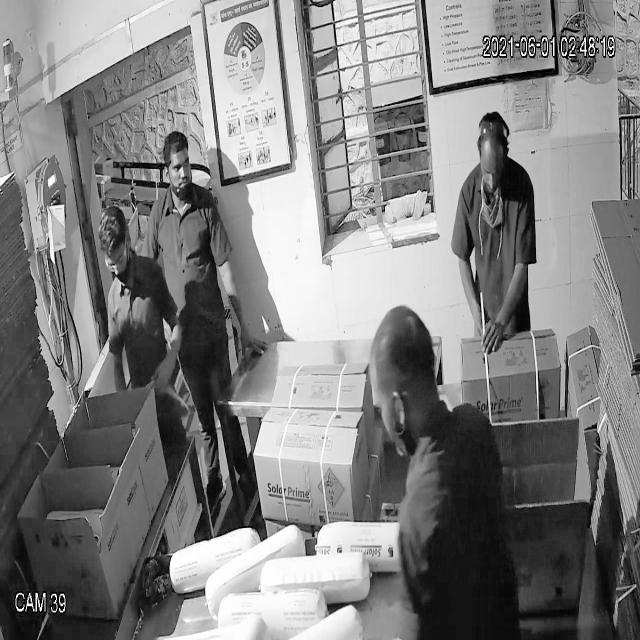glasses: (98, 242, 131, 277)
no-glass: (161, 153, 199, 182), (478, 157, 510, 187)
